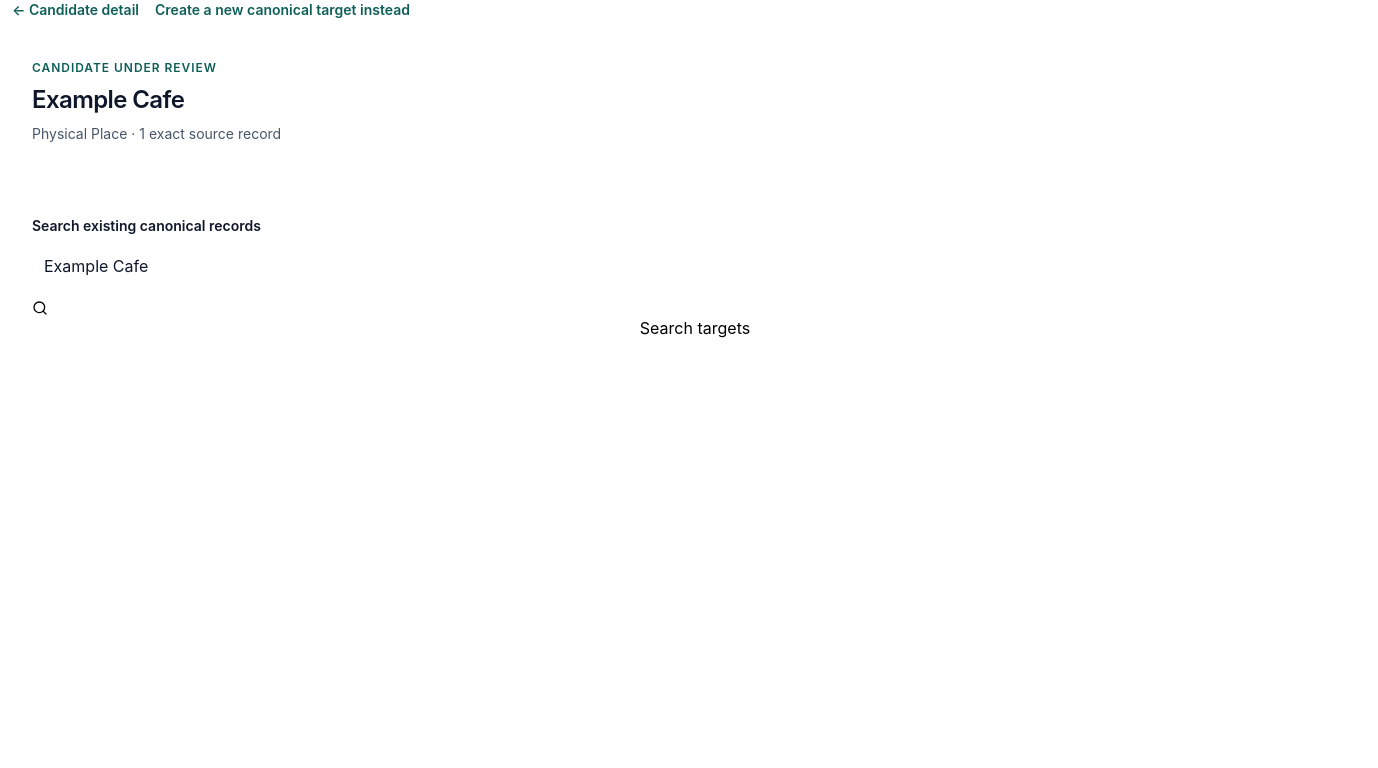
Test: Candidate existing-target editor › searches, compares, and explicitly selects one canonical target
Expected: the heading "Example Cafe" is shown, [32,85,184,114]
Step 1. Click the button "Search targets" → (695, 320), box [32,300,1358,340]
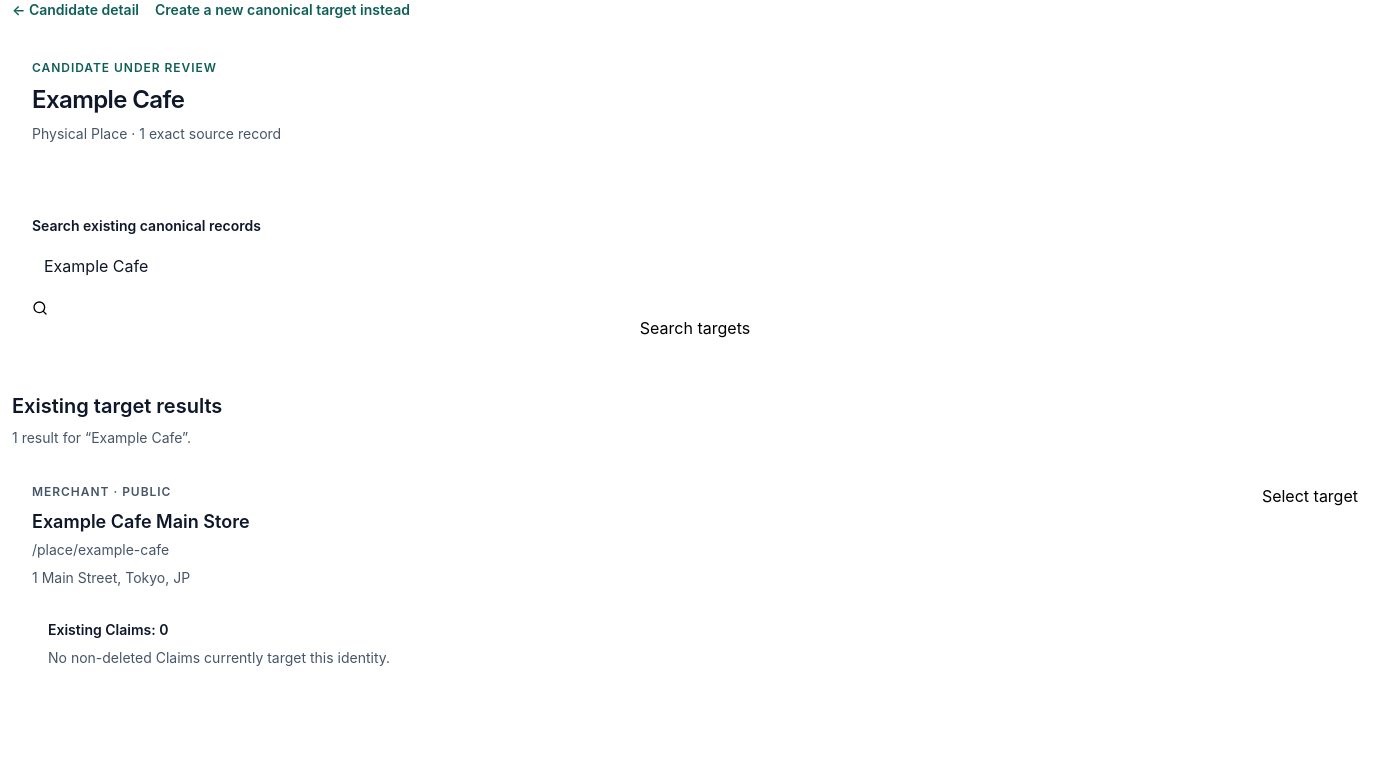
Expected: the heading "Example Cafe Main Store" is shown, [32,508,250,536]
Step 2. Click the button "Select target" → (1310, 496), box [1262,484,1358,508]
(page scrolled)
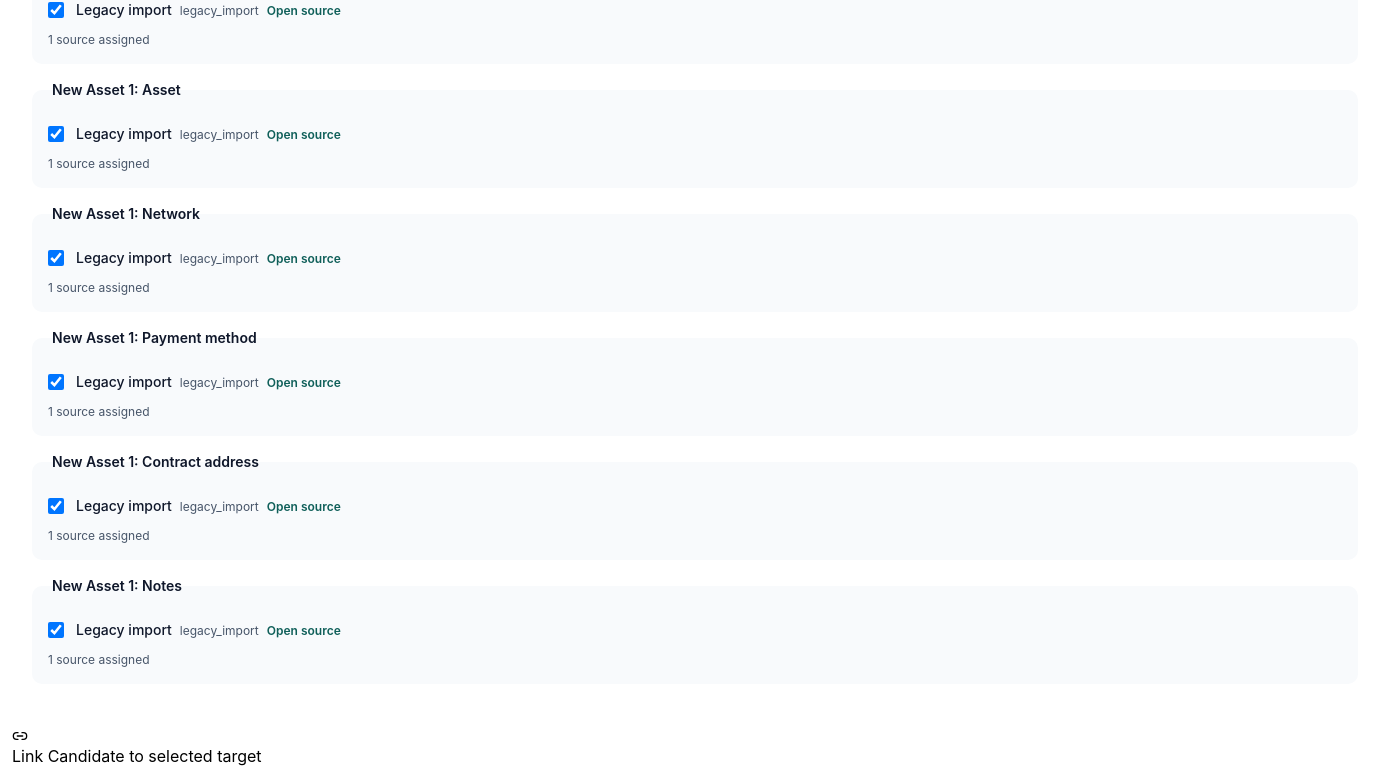
Expected: the button "Link Candidate to selected target" is enabled, [12,728,262,767]
